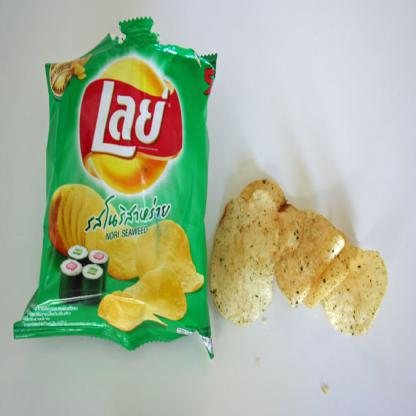potatochip: (10, 13, 224, 366)
